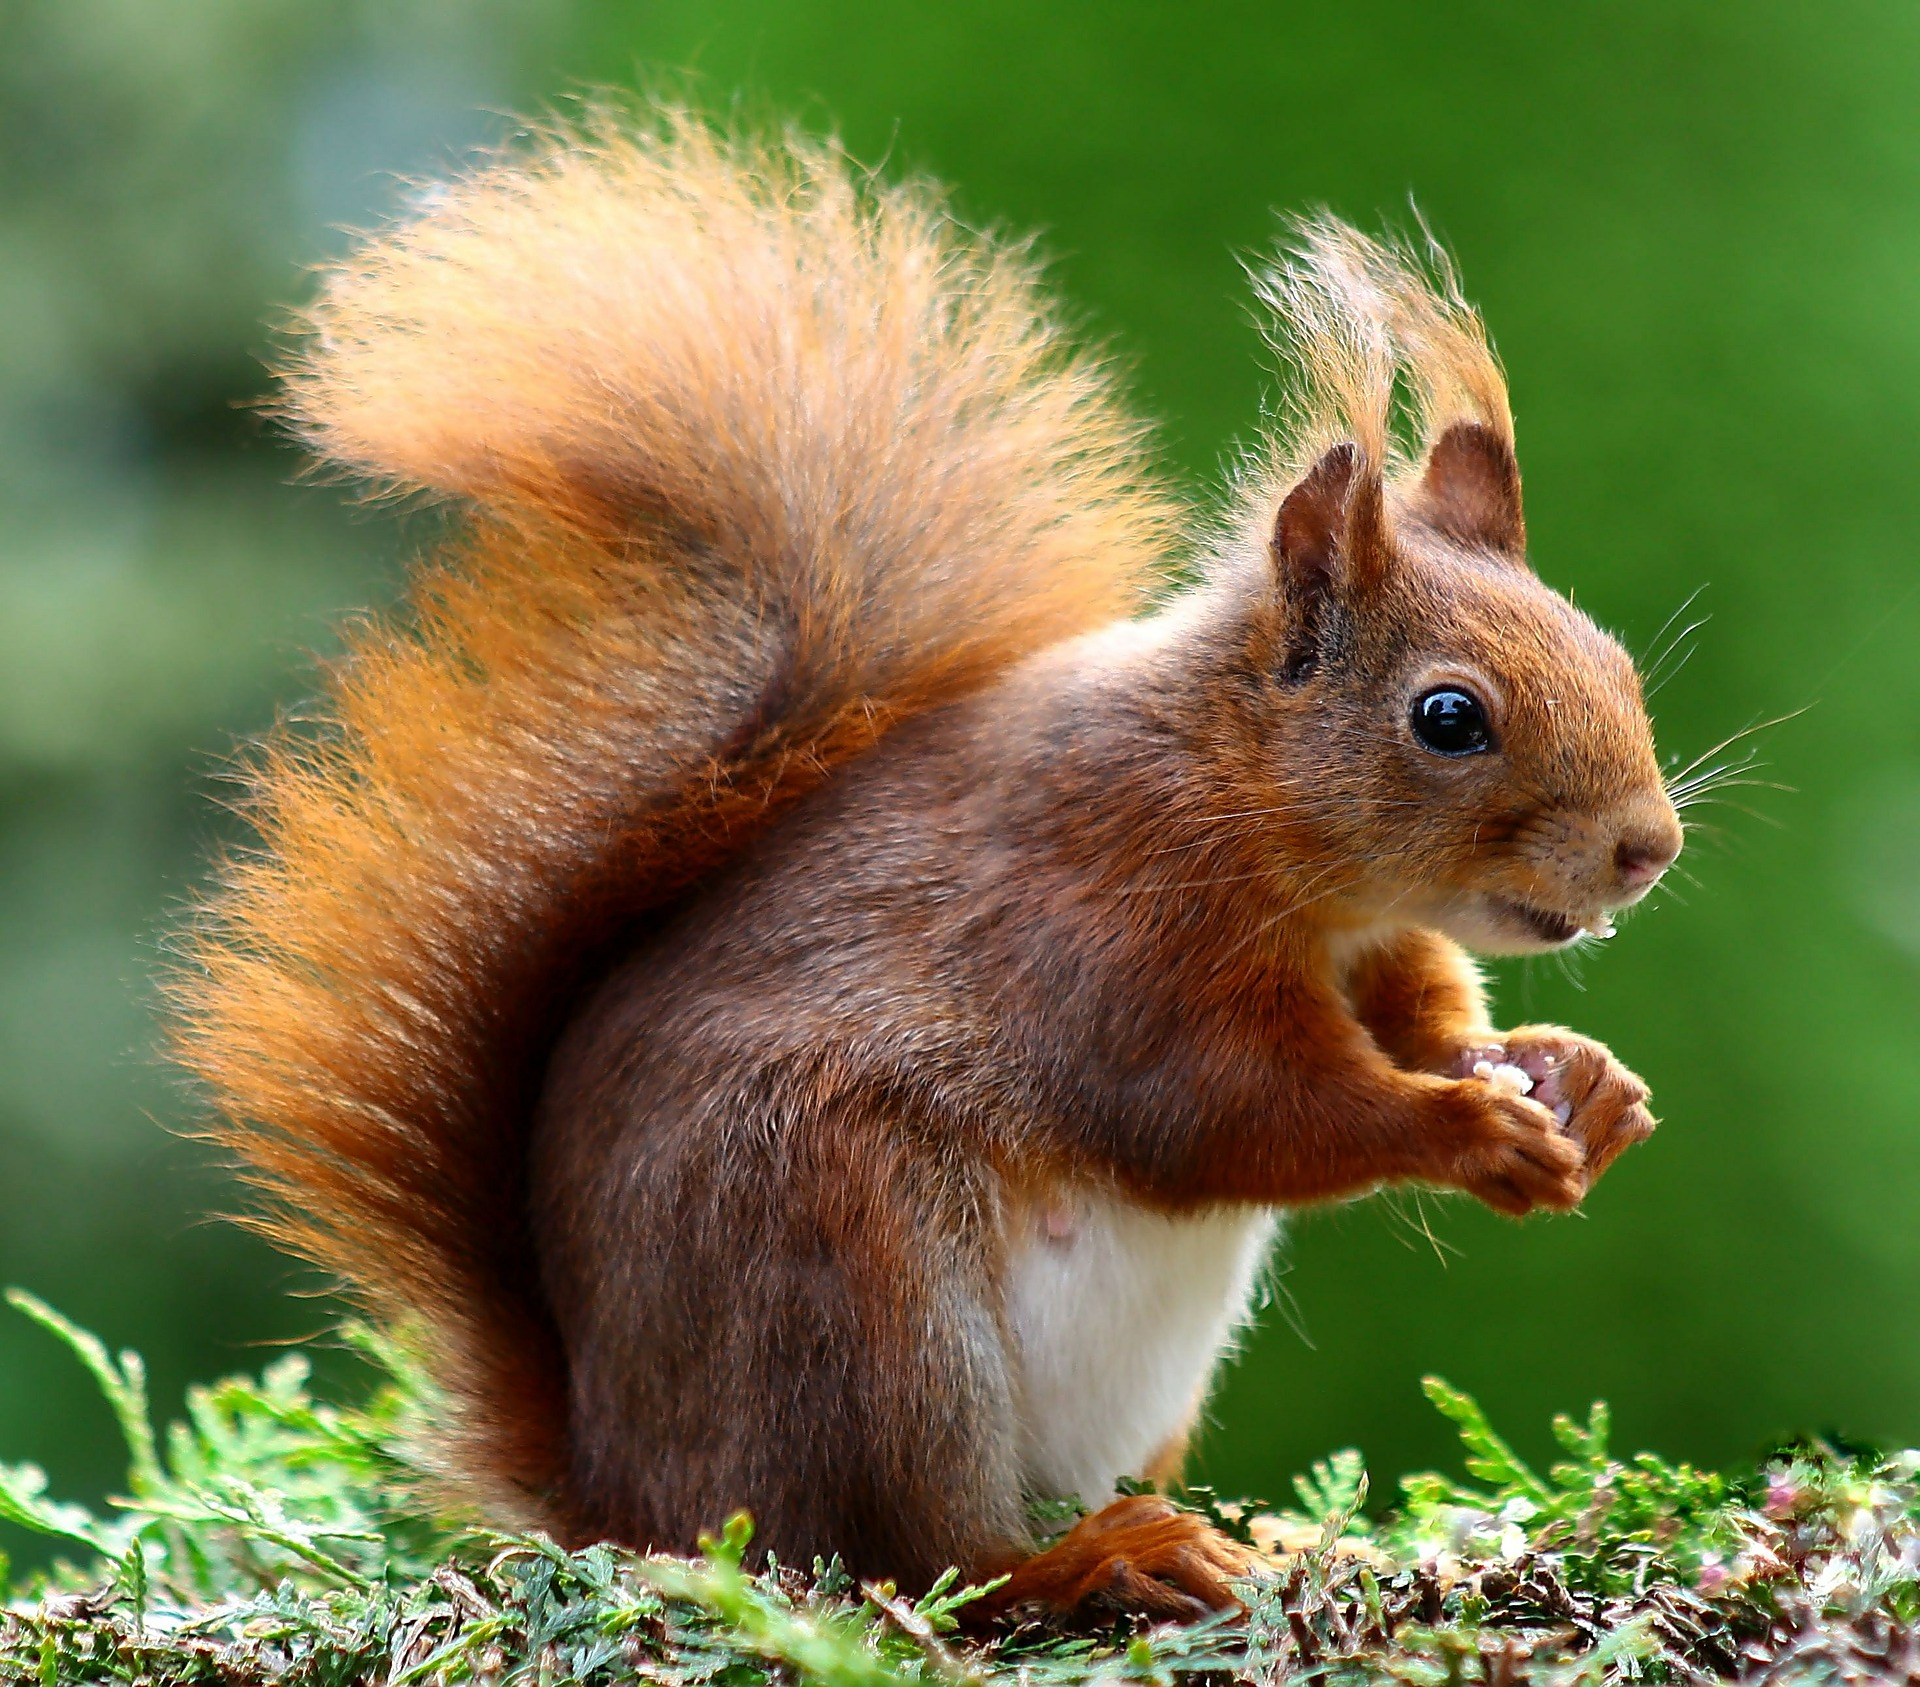squirrel: (211, 96, 1687, 1614)
